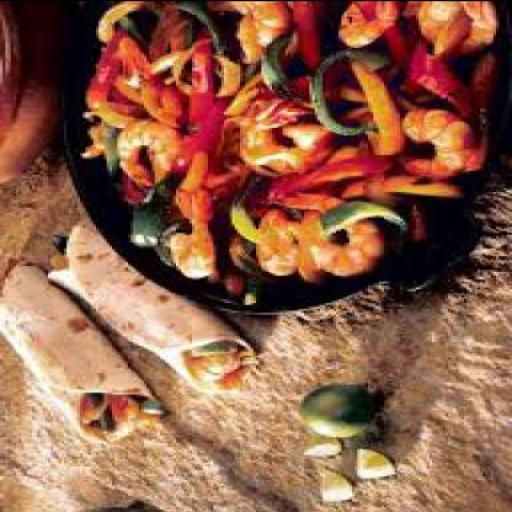biodegradable: (75, 2, 496, 307), (45, 222, 245, 393), (0, 259, 160, 446), (350, 2, 488, 122), (269, 186, 378, 282), (170, 31, 234, 183), (259, 148, 397, 206), (232, 98, 323, 179), (310, 55, 392, 138), (344, 43, 403, 158), (389, 109, 480, 183), (350, 2, 424, 92), (403, 35, 475, 121), (414, 2, 496, 56), (218, 76, 304, 125), (226, 2, 290, 66), (296, 386, 376, 437), (142, 2, 190, 82), (163, 2, 232, 56), (117, 125, 178, 186), (282, 2, 330, 76), (201, 117, 240, 207), (75, 37, 115, 124), (334, 2, 398, 48), (166, 216, 208, 285), (312, 204, 408, 234), (221, 238, 261, 308), (256, 212, 295, 276), (173, 160, 213, 222), (251, 39, 291, 98), (94, 2, 144, 47), (462, 45, 496, 109), (206, 56, 248, 104), (122, 206, 168, 249), (378, 177, 458, 201), (333, 177, 392, 207), (106, 16, 154, 50), (398, 199, 430, 250), (102, 86, 147, 121), (112, 176, 151, 208), (190, 358, 238, 382), (354, 448, 389, 480), (102, 117, 120, 178), (149, 231, 176, 271), (318, 469, 347, 505), (296, 438, 338, 462), (102, 397, 136, 426), (93, 413, 120, 446), (75, 391, 99, 426), (214, 368, 246, 390), (181, 345, 235, 358), (80, 129, 102, 158), (229, 350, 256, 370), (42, 238, 70, 257), (125, 416, 154, 434), (134, 404, 166, 417), (48, 258, 66, 271)
